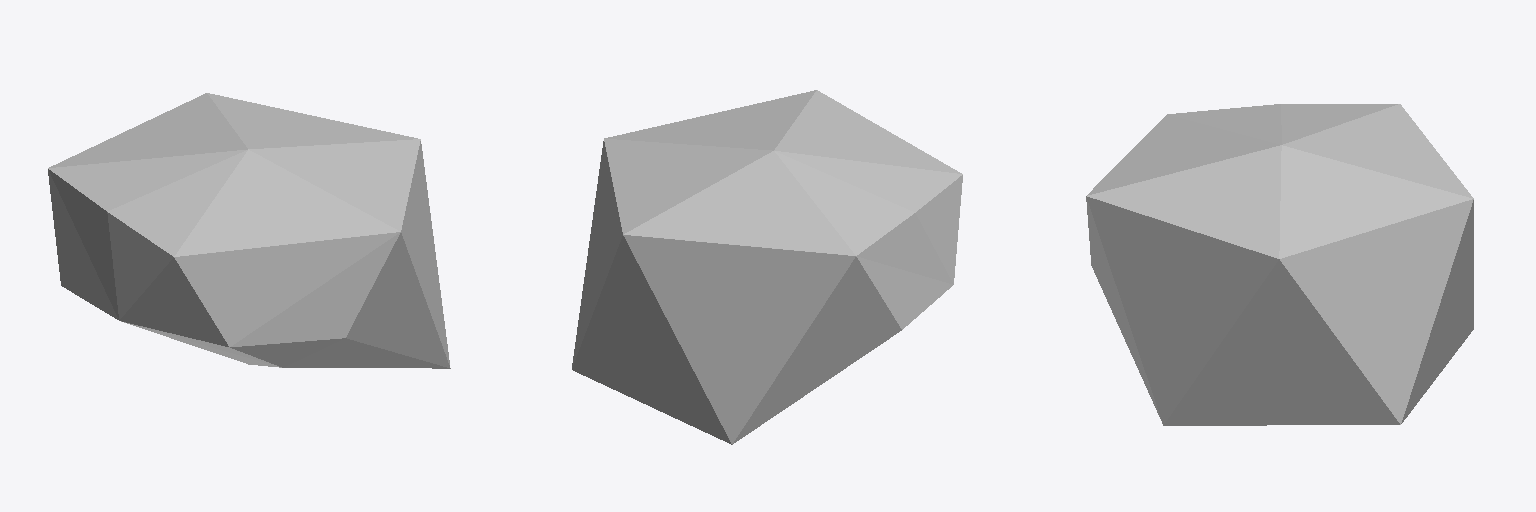
Rendered from rock_1.obj.
3 views of the same model, side by side, from view 1: azimuth 30°, elevation 25°; view 2: azimuth 150°, elevation 25°; view 3: azimuth 270°, elevation 25° (orthographic).
Visible parts, largest first — view 1: Rock_01_Icosphere.000; view 2: Rock_01_Icosphere.000; view 3: Rock_01_Icosphere.000.
Part boxes in pixels (left/top/right/bottom): Rock_01_Icosphere.000: left=48, top=93, right=450, bottom=368; Rock_01_Icosphere.000: left=572, top=90, right=962, bottom=444; Rock_01_Icosphere.000: left=1086, top=104, right=1473, bottom=425.
Bounding box in the file's own units: 0.9411 × 0.588 × 0.9607.